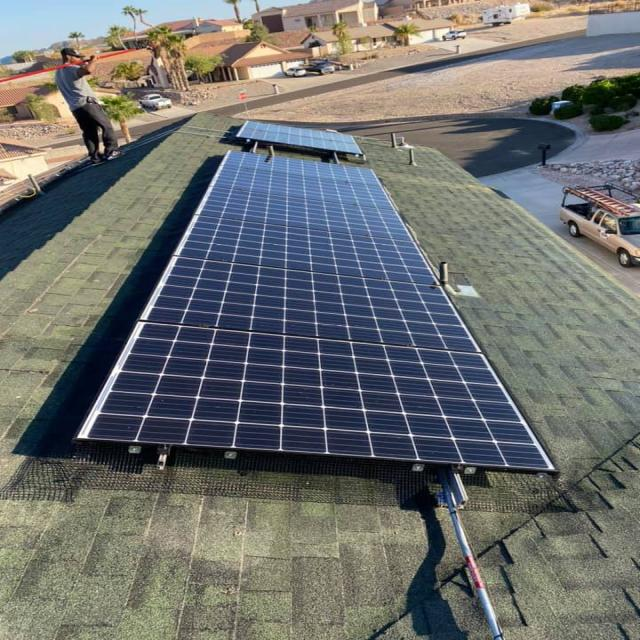clean-solar-panel: (77, 151, 553, 471)
